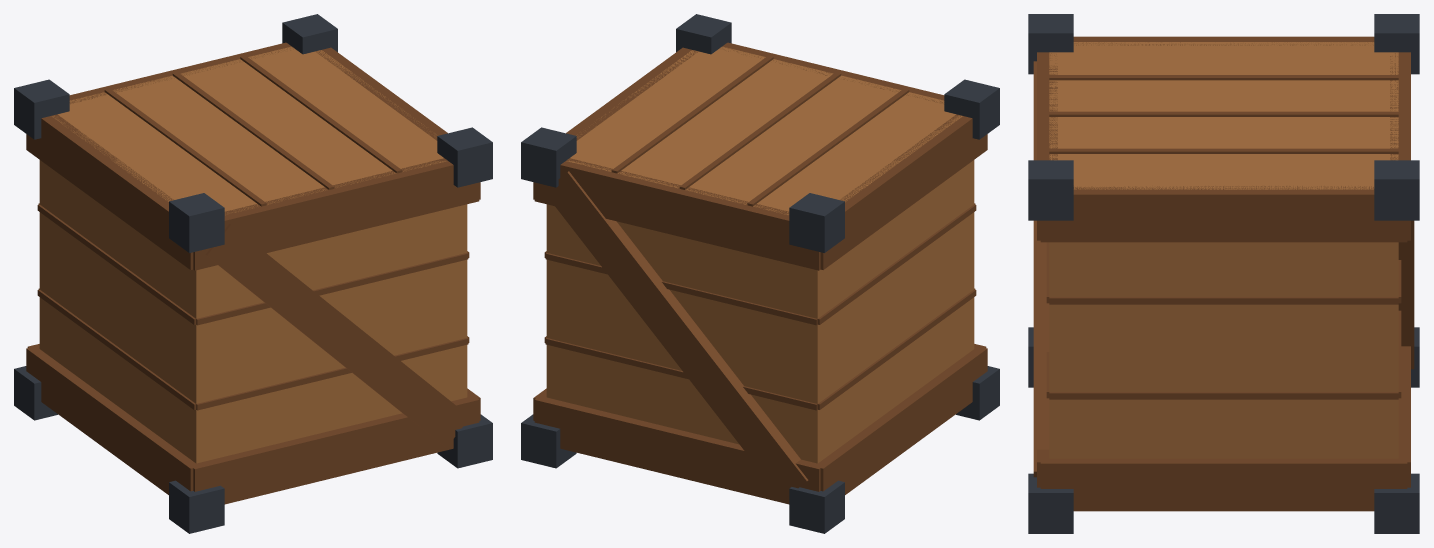
The model's file is Crate.glb.
3 renders of one model, left to right at view 1: azimuth 30°, elevation 25°; view 2: azimuth 150°, elevation 25°; view 3: azimuth 270°, elevation 25°, orthographic. The views are drawn at different scales.
Parts seen in each view (by area): view 1: Body; view 2: Body; view 3: Body.
Part boxes in pixels (bbox=[...]): Body: bbox=[14, 14, 492, 533]; Body: bbox=[521, 14, 999, 533]; Body: bbox=[1028, 14, 1419, 533].
Size of the model in its own units: 2.24 by 2.24 by 2.24.
1 material, 1 textured.
